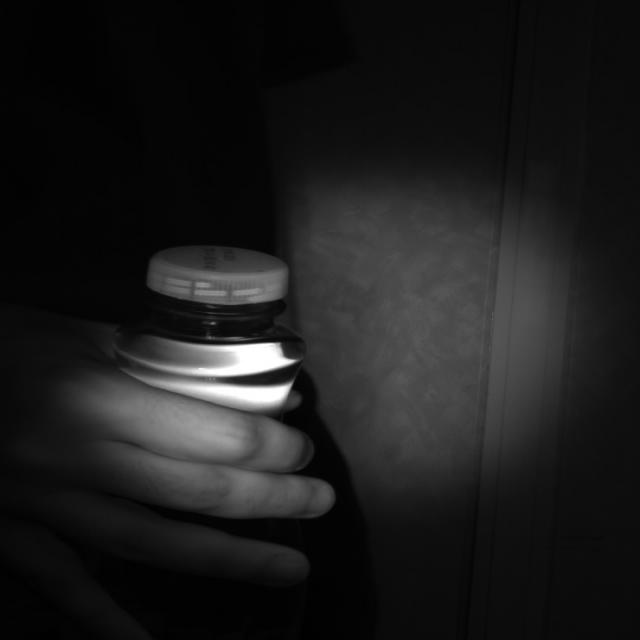Not Good: (144, 245, 286, 318)
